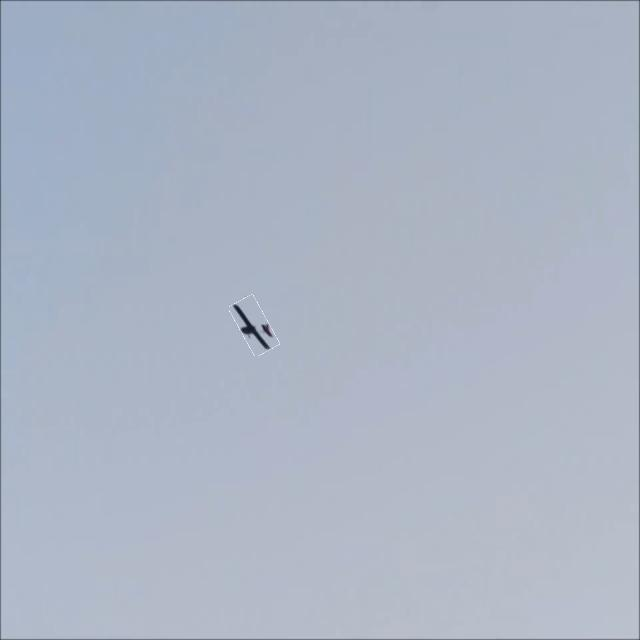plane: (229, 292, 279, 358)
